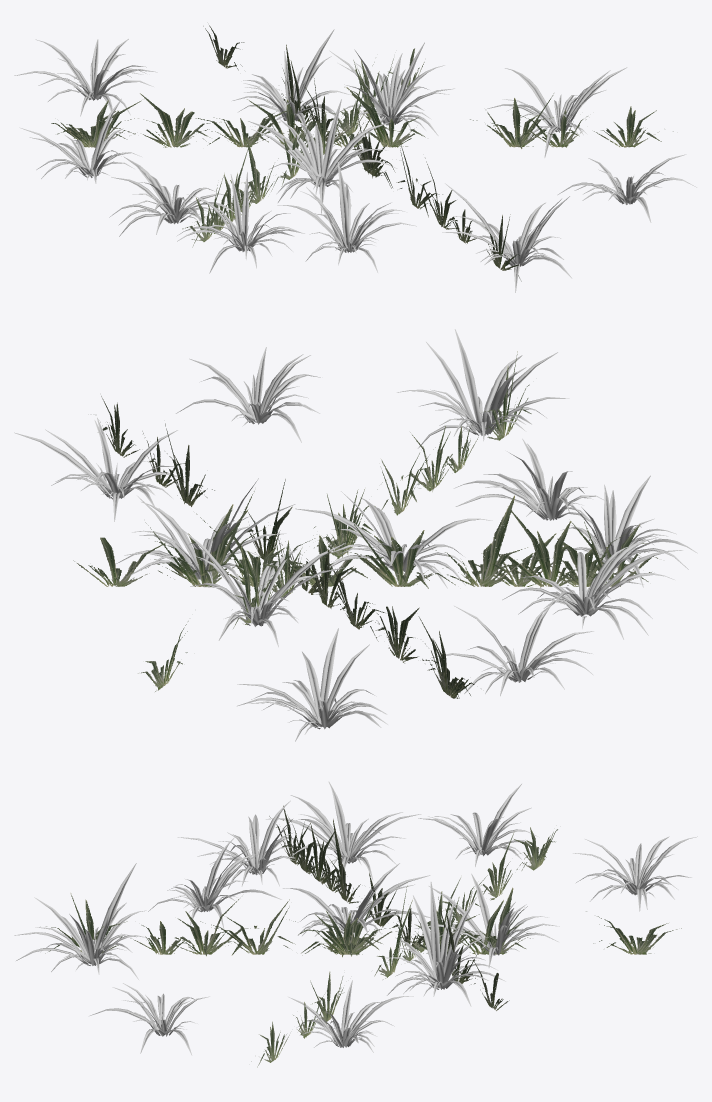
File: PW_Grass_01_01.fbx
3 renders of one model, top to bottom at view 1: azimuth 30°, elevation 25°; view 2: azimuth 150°, elevation 25°; view 3: azimuth 270°, elevation 25°, orthographic. The views are drawn at different scales.
Visible parts, largest first — view 1: LOD0, Billboard; view 2: LOD0, Billboard; view 3: LOD0, Billboard.
Part boxes in pixels (x1=…): LOD0: x1=14, y1=29, x2=696, y2=292; Billboard: x1=51, y1=25, x2=673, y2=281; LOD0: x1=14, y1=329, x2=697, y2=741; Billboard: x1=73, y1=351, x2=657, y2=698; LOD0: x1=14, y1=781, x2=697, y2=1055; Billboard: x1=45, y1=805, x2=681, y2=1067.
Size of what is drawn, in the model's own units: 85.88 by 14.02 by 96.68.
